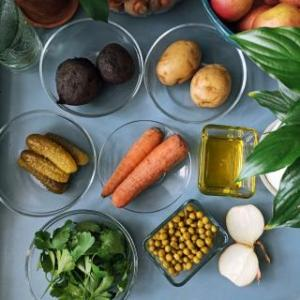beet: (52, 54, 106, 109), (95, 41, 137, 87)
carrot: (111, 132, 191, 210), (100, 124, 164, 200)
cucumber: (20, 131, 87, 191)
onion: (220, 246, 260, 286), (228, 204, 264, 246)
potato: (155, 36, 201, 88), (188, 62, 235, 110)
